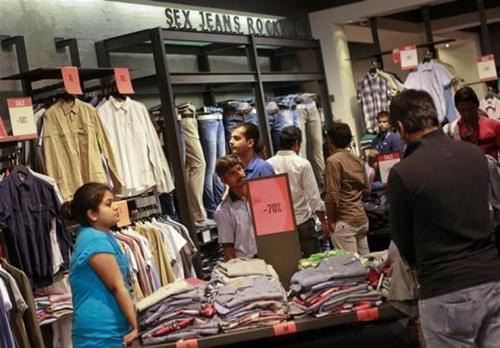Age_20_30: (79, 185, 130, 230), (229, 122, 257, 152), (221, 160, 251, 187), (378, 114, 391, 133)
E_Indian: (79, 185, 130, 230), (229, 122, 257, 152), (221, 160, 251, 187), (378, 114, 391, 133)
Emotion_Neutral: (229, 122, 257, 152), (378, 114, 391, 133)
Emotion_Sad: (79, 185, 130, 230), (221, 160, 251, 187)
G_ Female: (79, 185, 130, 230)
G_Male: (229, 122, 257, 152), (221, 160, 251, 187), (378, 114, 391, 133)
Not_Face: (396, 89, 437, 136), (328, 123, 355, 156), (458, 89, 482, 120), (281, 125, 303, 152)
